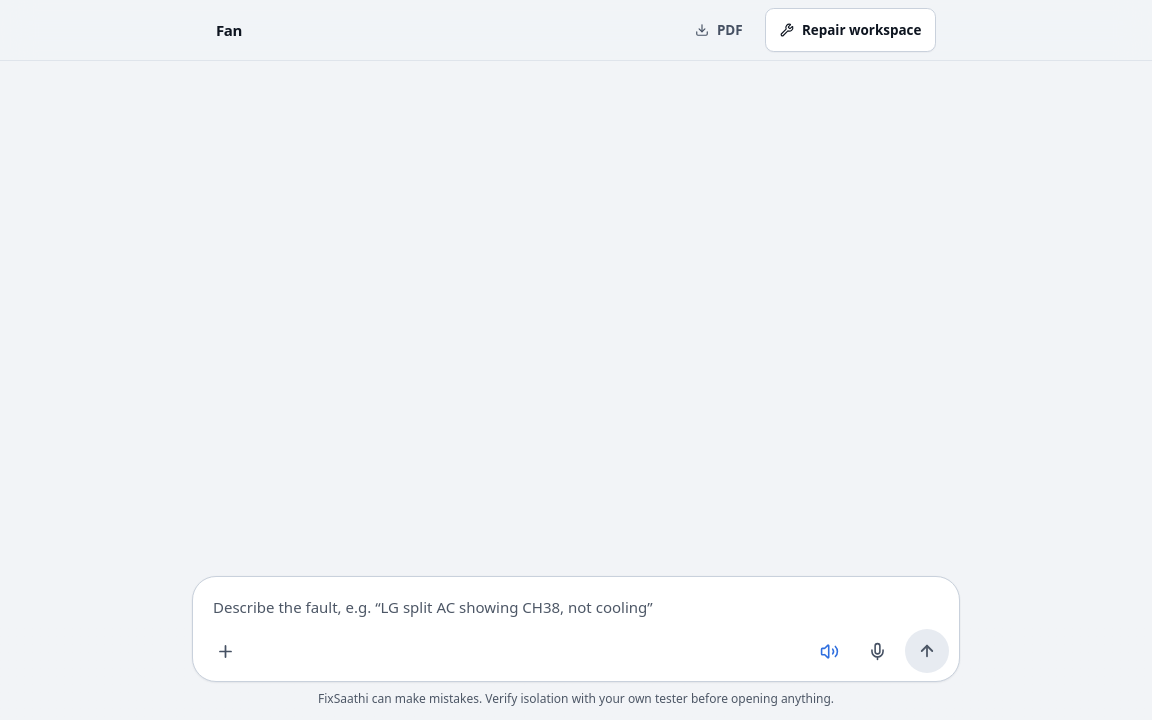
Test: text vs voice replies › an AI answer can be marked helpful or not, with a note on what was wrong
Type "fan slow" into the text box named "Describe the appliance issue". click: (576, 607)
box: [201,585,951,629]
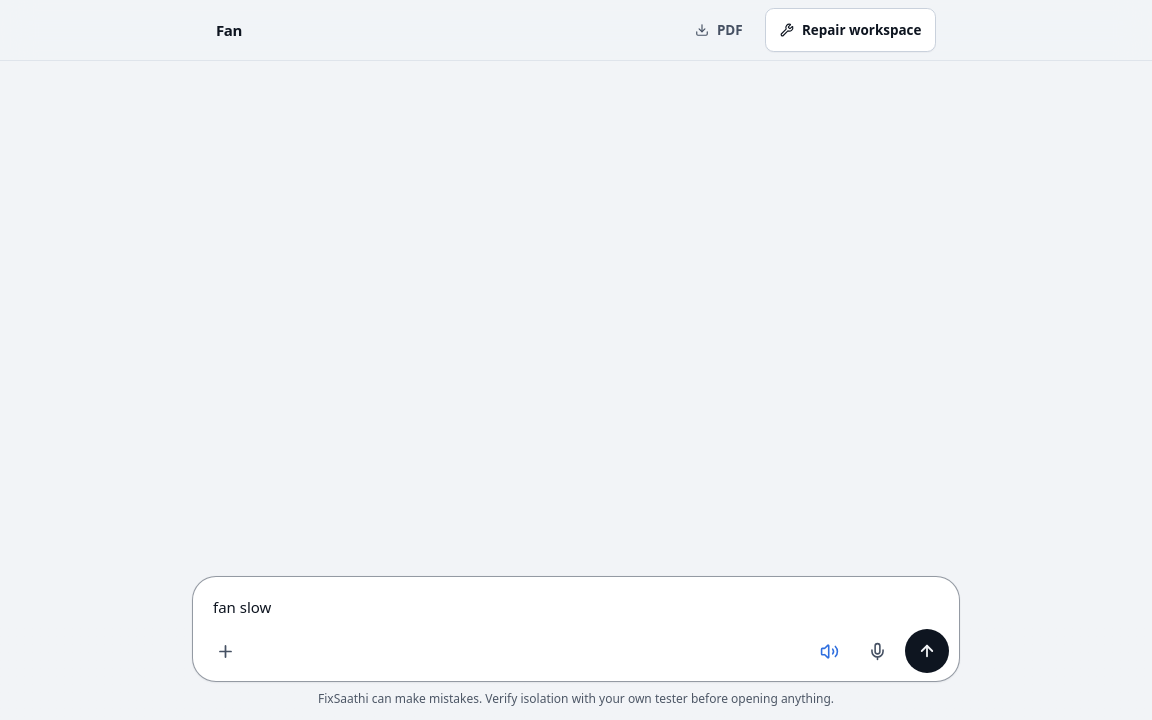
Click the button named "Send". click: click(927, 651)
box: [905,629,949,673]
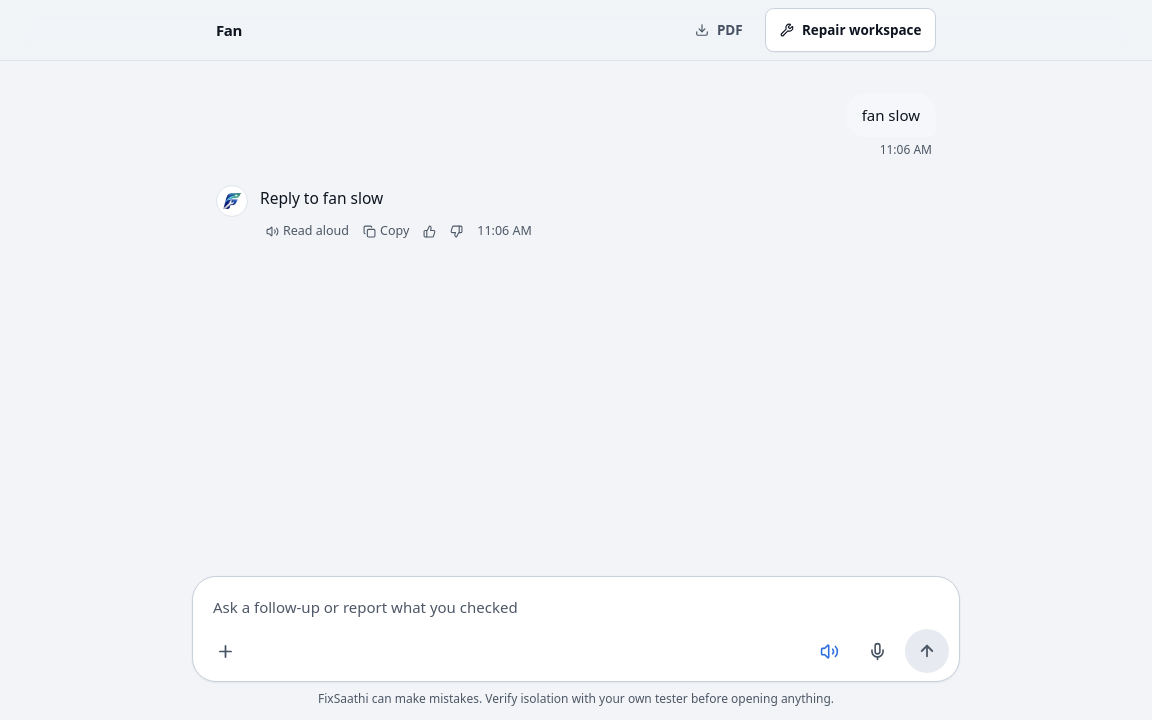
Result: the text "Reply to fan slow" is shown at [260,187,383,209]
Click the button named "Not helpful". click: click(457, 231)
box: [444,221,469,242]
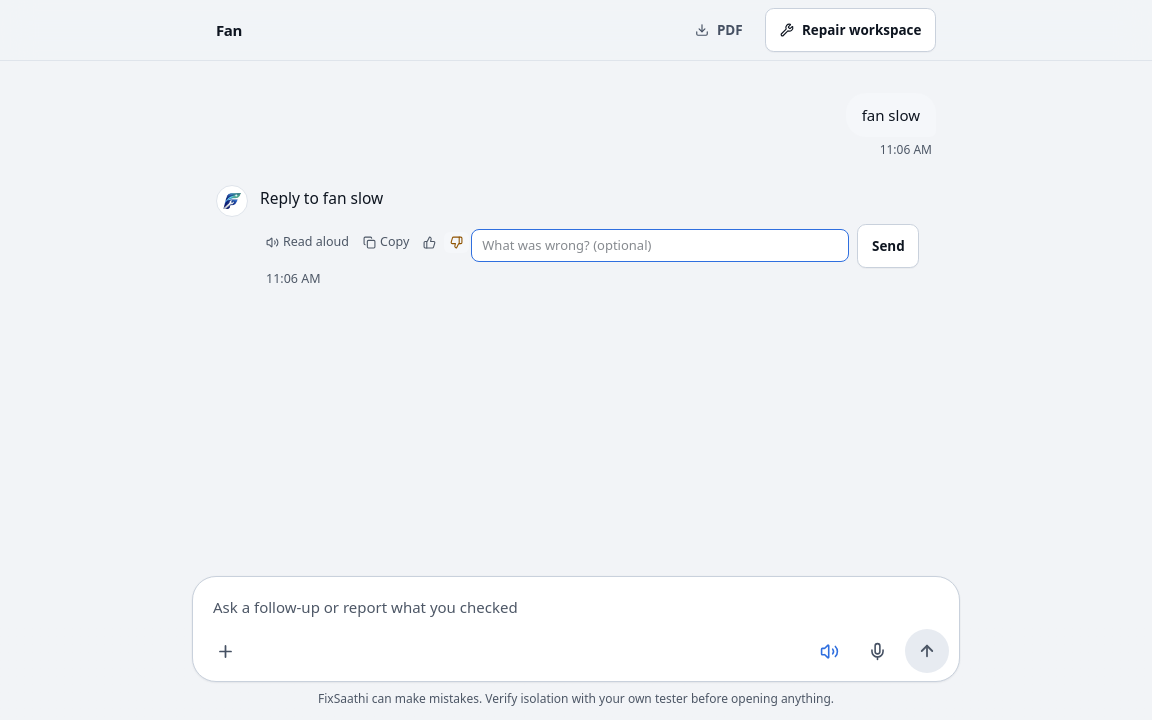
Type "it was the capacitor" into the field labelled "What was wrong? (optional)". click: (660, 246)
box: [471,229,849,262]
Click the button "Send". click: click(888, 246)
box: [857,224,919,268]
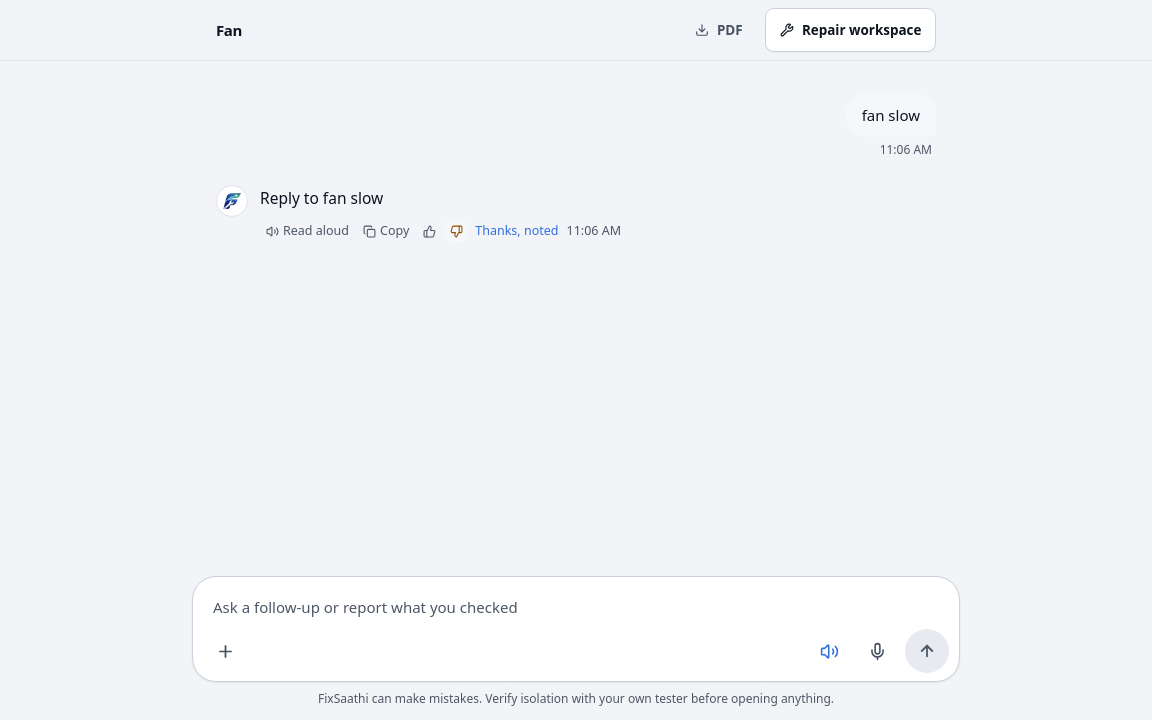
Result: the text "Thanks, noted" is shown at [475,222,558,240]
Click the button named "Helpful". click: click(430, 231)
box: [417,221,442,242]
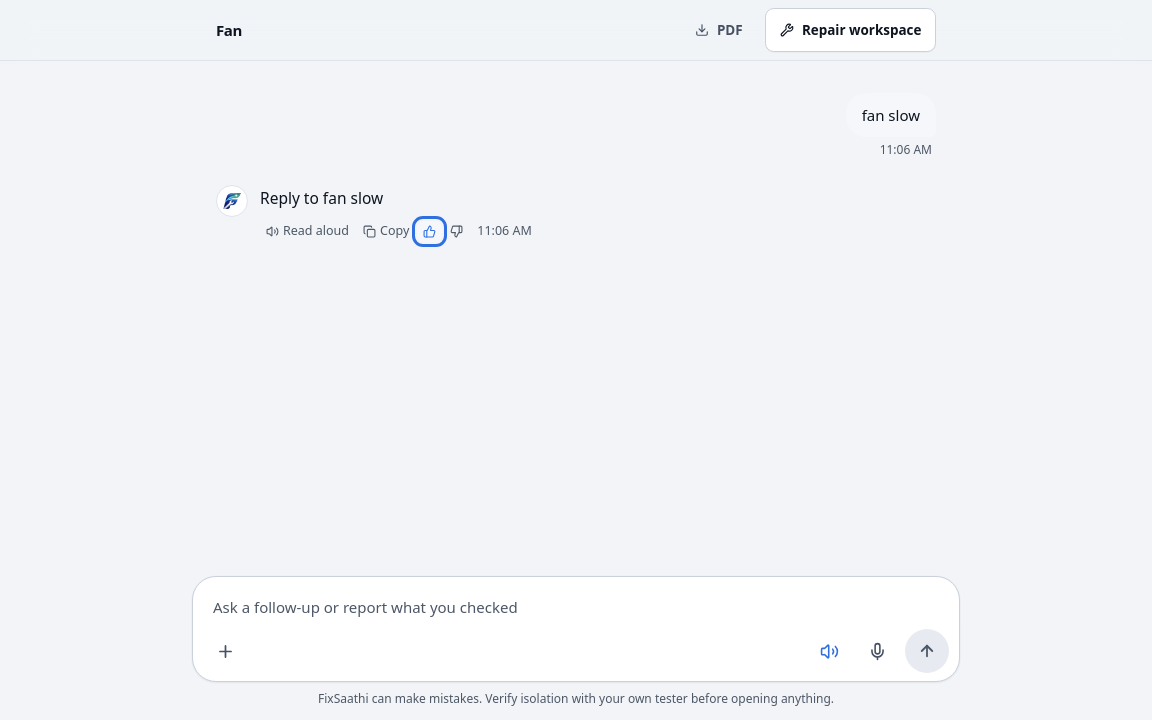
Result: the button named "Helpful" is pressed at [417,221,442,242]
Click the button named "Not helpful". click: click(457, 231)
box: [444,221,469,242]
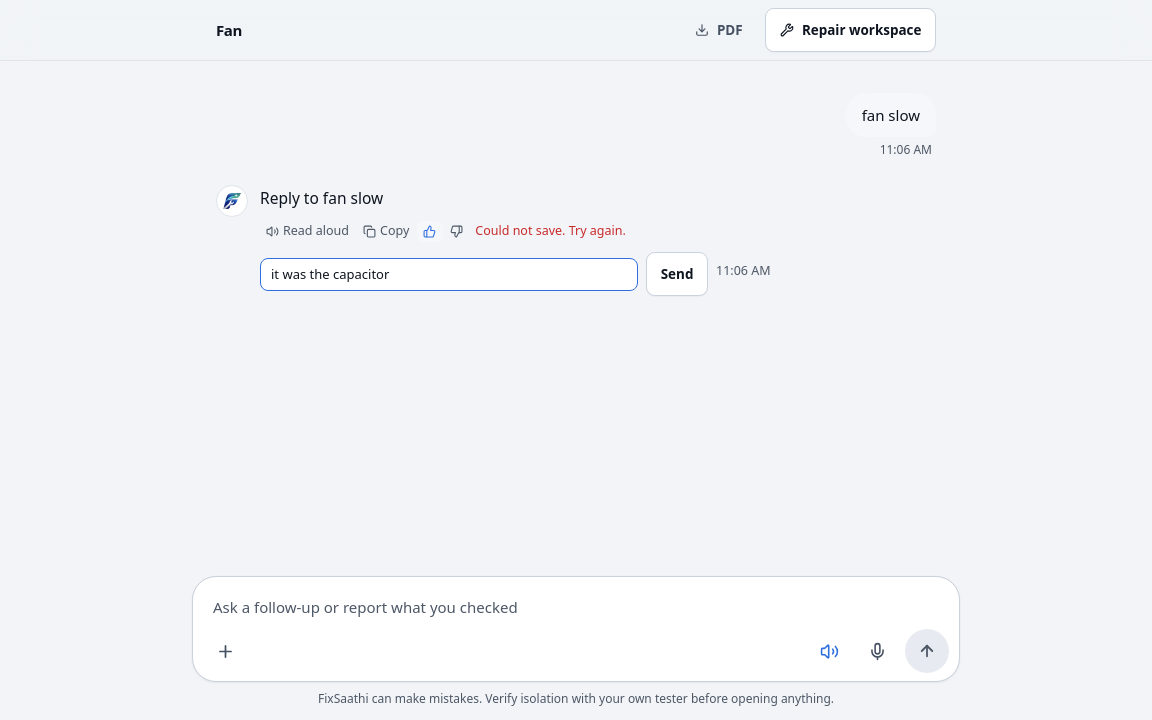
Result: the message "Could not save. Try again." is shown at [475,222,626,240]
